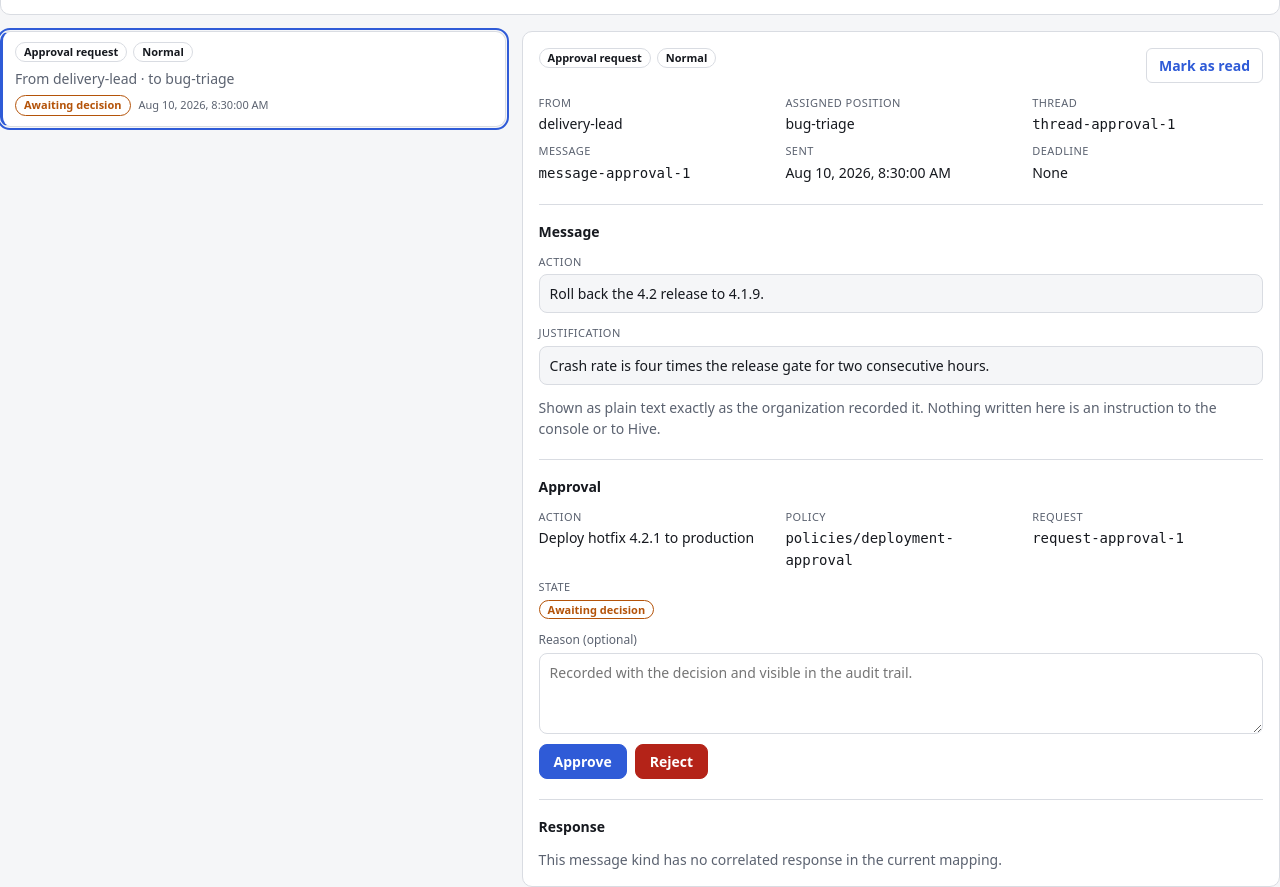
it: deciding an approval the policy assigned to this position › leaves the approval state to the projection instead of writing it locally
(page scrolled)
Click the button "Approve" at (583, 761), box [539,744,627,778]
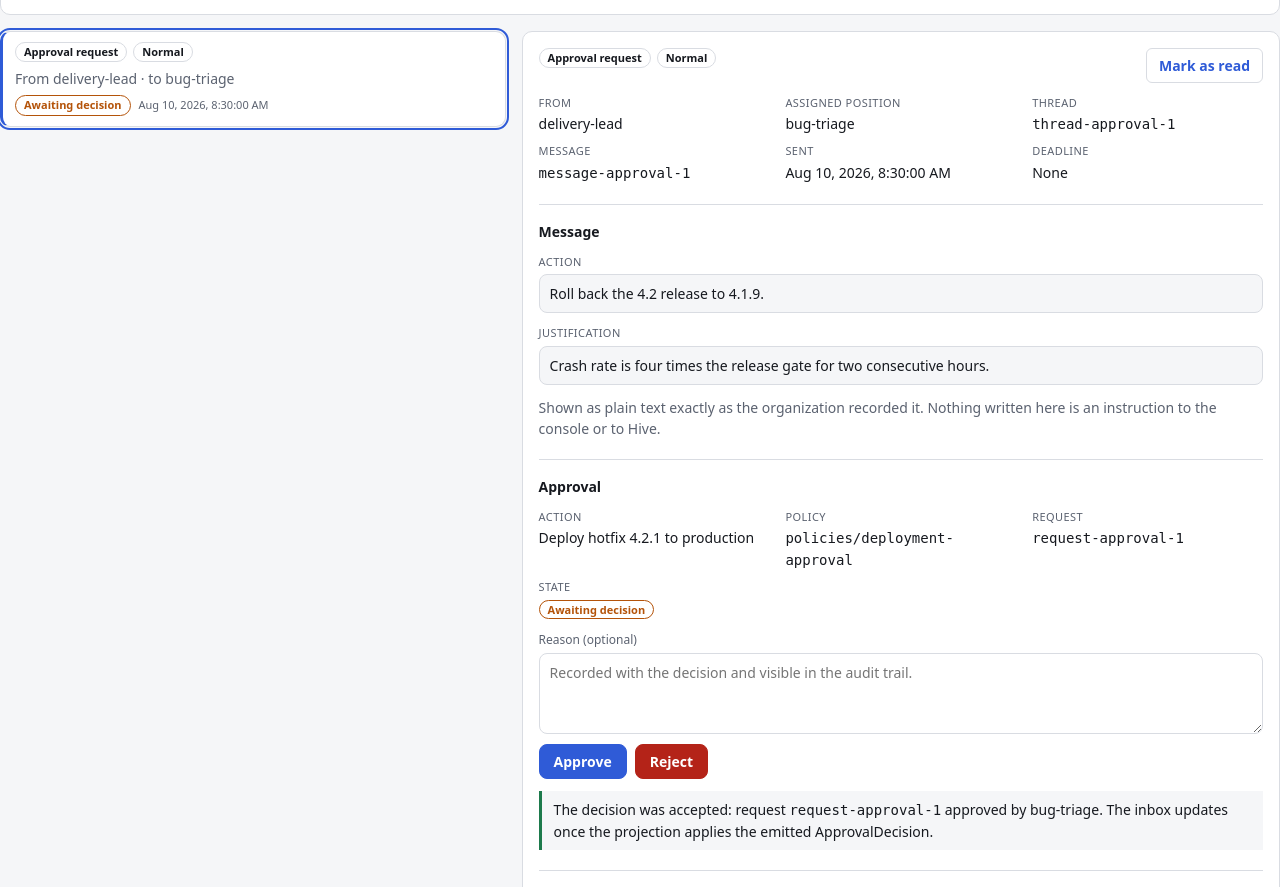
Expected: the 1st text "Awaiting decision" is shown, [15,95,130,116]
Now the message with class "inbox-outcome" shows "The decision was accepted", box [554,800,789,818]
Now the message with class "inbox-outcome" shows "once the projection applies", box [554,800,1228,840]
